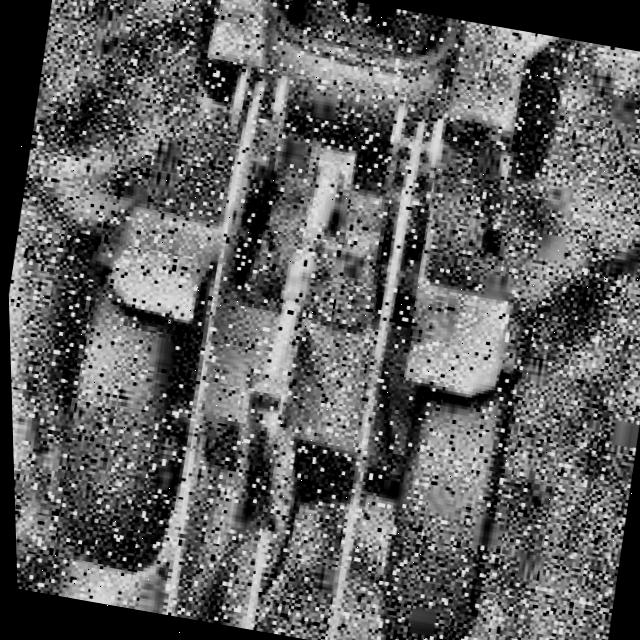buldozerpayloadergrader: (0, 0, 638, 640)
